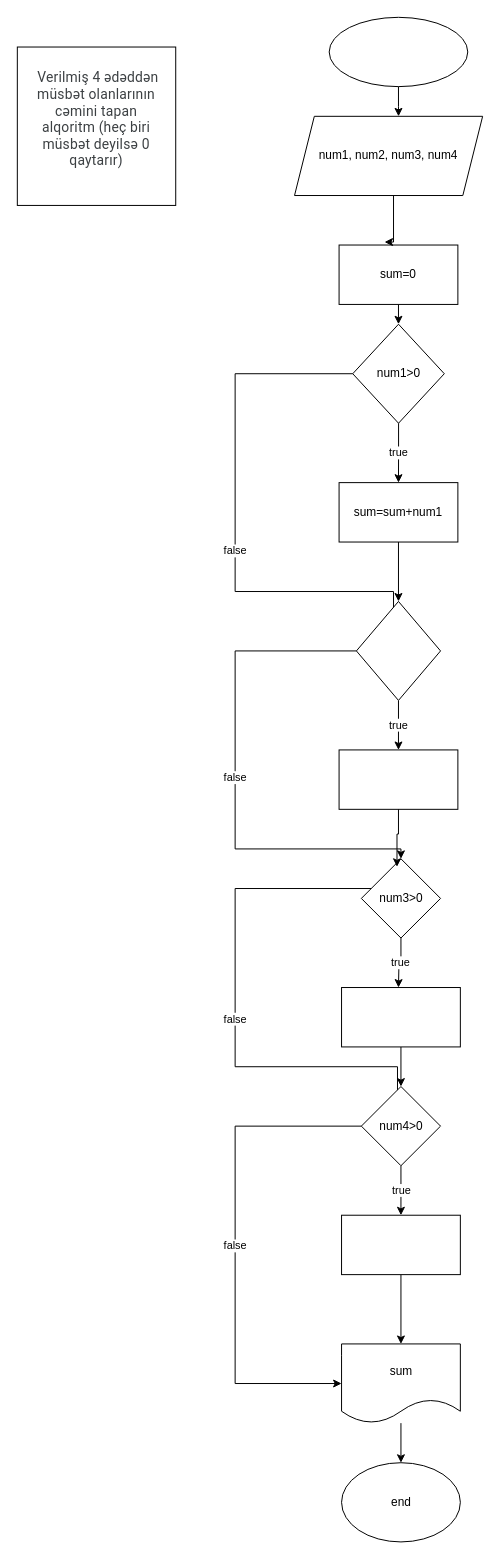
Some shapes in this 500 by 1559 pixel diagram are drawn without their labels. The box of each missing label's shape, as (x1, y1, x2, y2) in pixels:
num2>0: (355, 600, 441, 700)
start: (328, 16, 468, 87)
sum=sum+num2: (338, 749, 458, 809)
sum=sum+num3: (341, 987, 460, 1047)
sum=sum+num4: (341, 1214, 460, 1275)
